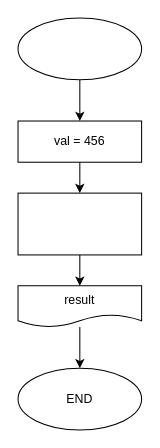
This 160x448 diagram has some shape labels left out. The shapes that lost their labels are listed below. From the top down, each one's box as (x1, y1, x2, y2) in pixels, then its label:
(17, 17, 142, 80): START
(17, 192, 142, 255): a = div val/10 result = mod a/10
